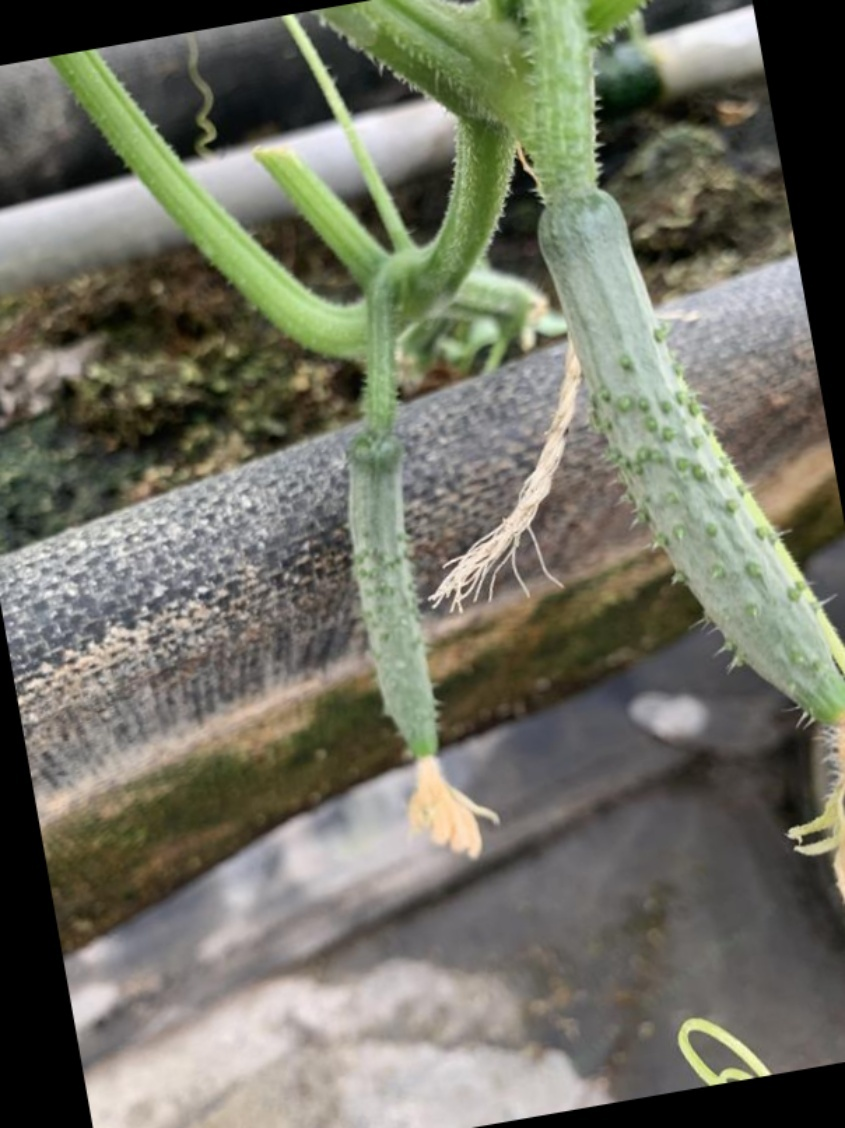growth: (533, 179, 842, 758)
